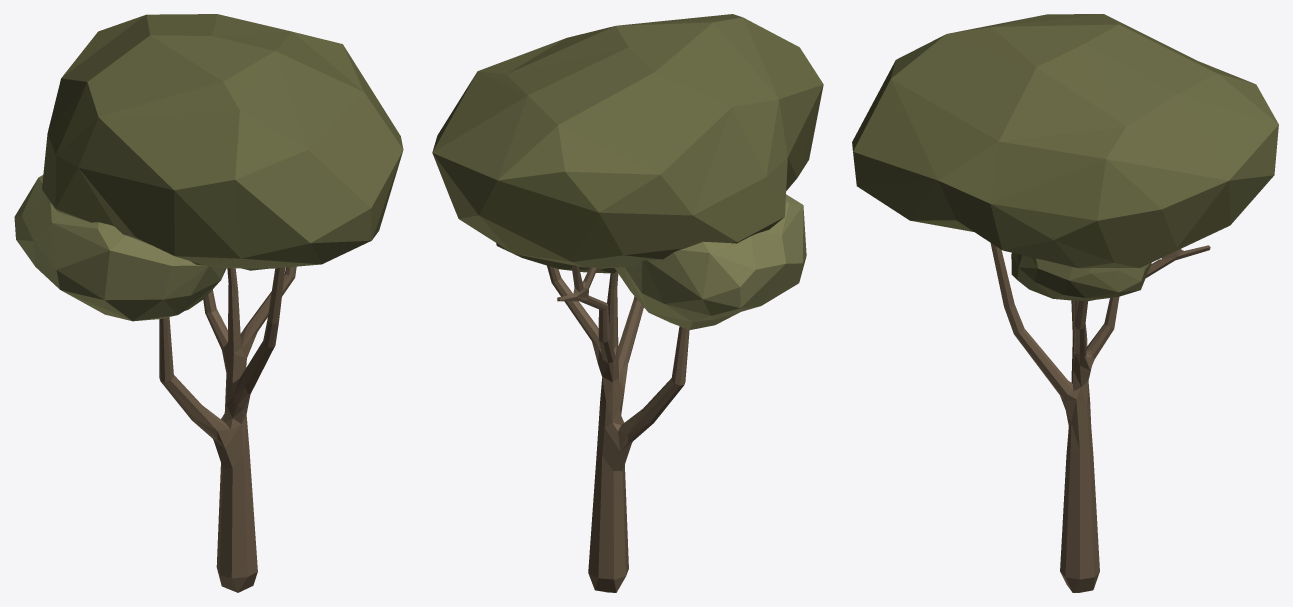
The model's file is SM_Envr_Nature_Tree_06.fbx.
3 renders of one model, left to right at view 1: azimuth 30°, elevation 25°; view 2: azimuth 150°, elevation 25°; view 3: azimuth 270°, elevation 25°, orthographic. The views are drawn at different scales.
Visible parts, largest first — view 1: SM_Envr_Nature_Tree_06; view 2: SM_Envr_Nature_Tree_06; view 3: SM_Envr_Nature_Tree_06.
Part boxes in pixels (left/top/right/bottom): SM_Envr_Nature_Tree_06: left=14, top=14, right=403, bottom=592; SM_Envr_Nature_Tree_06: left=432, top=14, right=823, bottom=592; SM_Envr_Nature_Tree_06: left=852, top=14, right=1278, bottom=592.
Size of the model in its own units: 361 by 575 by 413.
